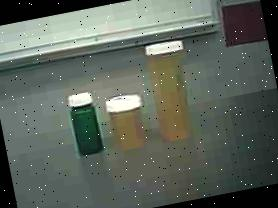Bottle A: (138, 31, 207, 148)
Bottle B: (104, 89, 153, 156)
Bottle C: (63, 85, 111, 161)
